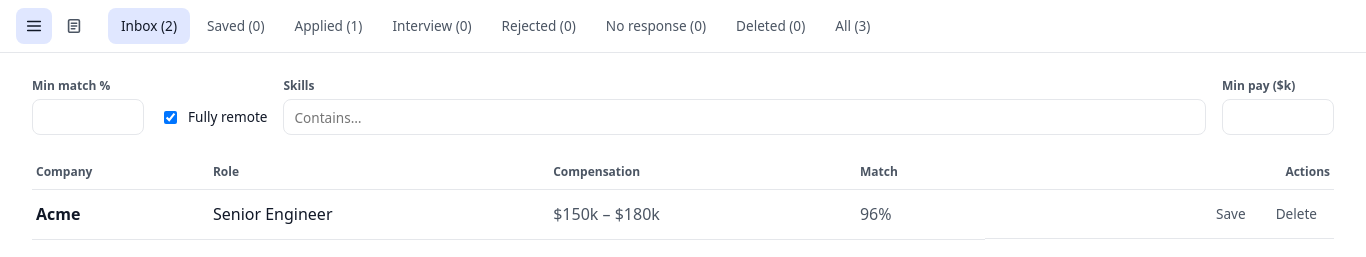
saves a job from the inbox
The image size is (1366, 257).
Check: the button "Acme" is shown, box [36,198,201,230]
Click the button "Save": (1231, 214) [1203,196,1259,232]
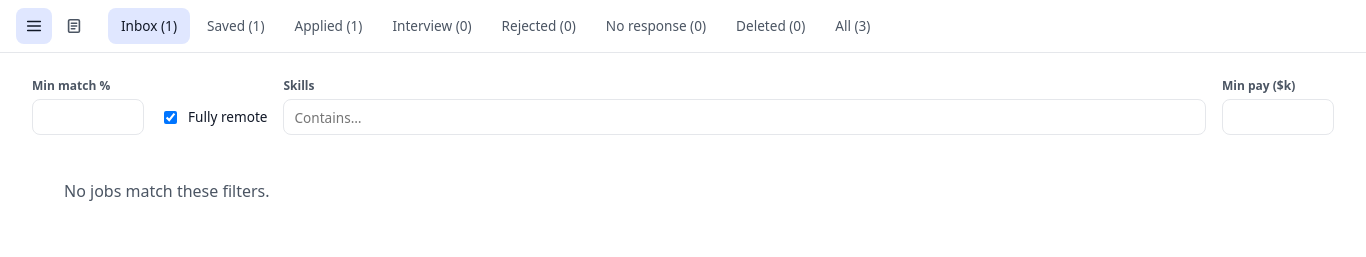
Check: the button "Acme" is gone
Check: the tab "Saved (1)" is shown, box [194,8,278,44]
